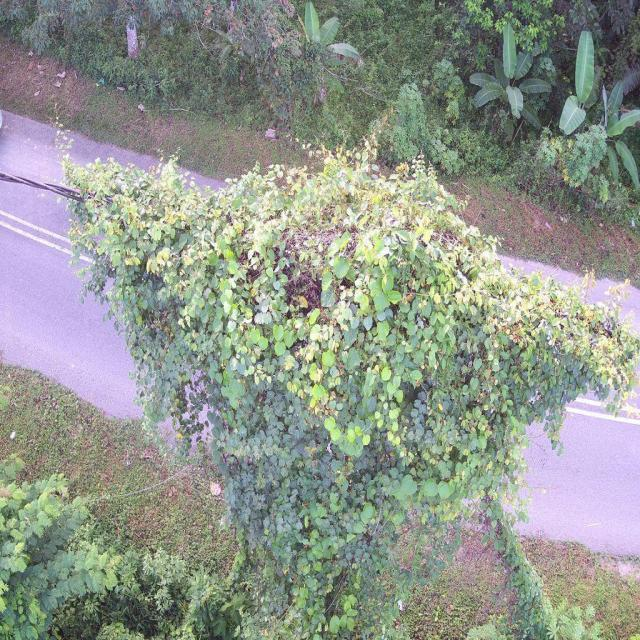critical vegetation: (63, 127, 636, 626)
